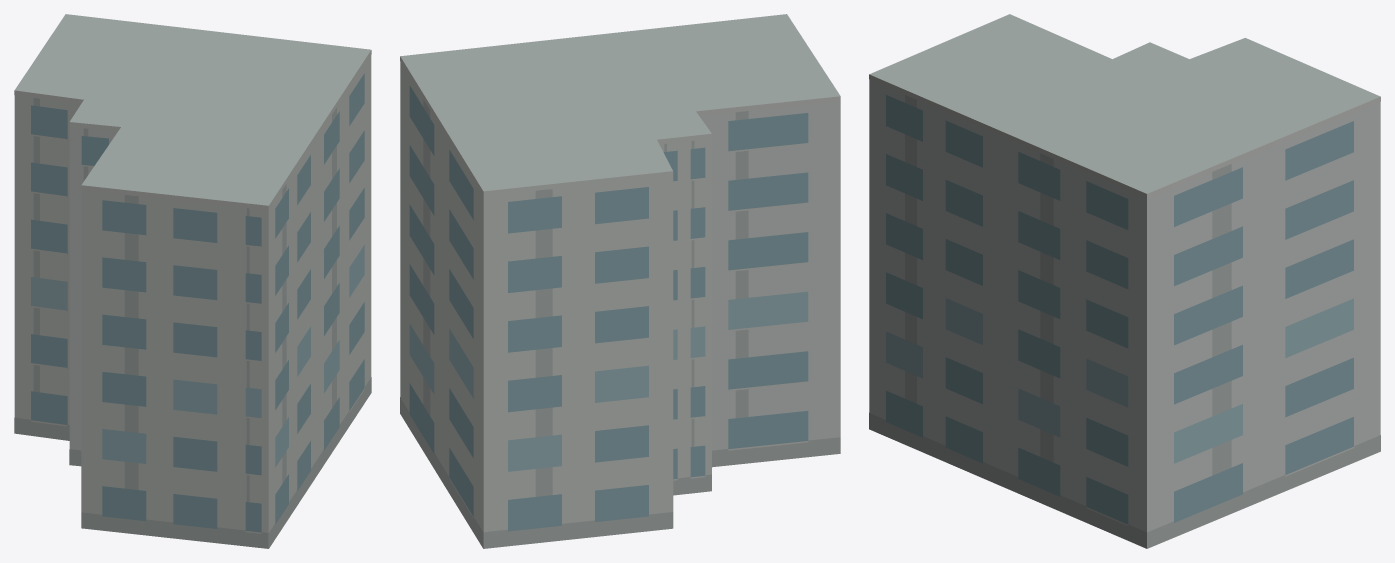
File: survey-upis-32652175.glb
3 renders of one model, left to right at view 1: azimuth 30°, elevation 25°; view 2: azimuth 150°, elevation 25°; view 3: azimuth 270°, elevation 25°, orthographic. The views are drawn at different scales.
Parts seen in each view (by area): view 1: survey-upis-32652175.tmp; view 2: survey-upis-32652175.tmp; view 3: survey-upis-32652175.tmp.
Boxes of the visible parts, <box> form: survey-upis-32652175.tmp: <box>14,14,371,548</box>; survey-upis-32652175.tmp: <box>400,14,840,548</box>; survey-upis-32652175.tmp: <box>869,14,1380,548</box>.
Size of the model in its own units: 18.71 by 17.2 by 22.47.
